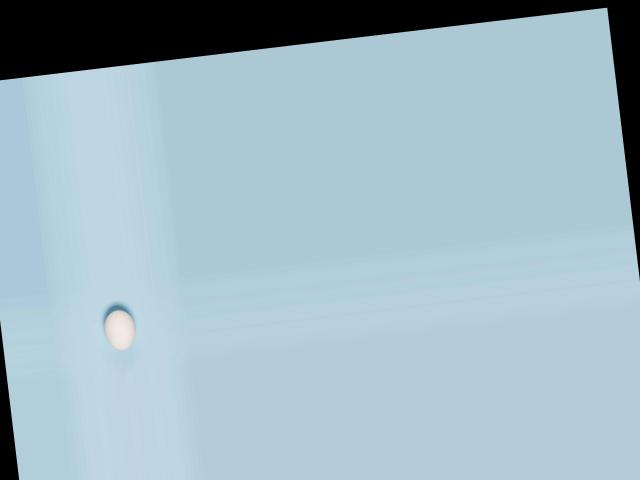egg: (102, 308, 137, 352)
